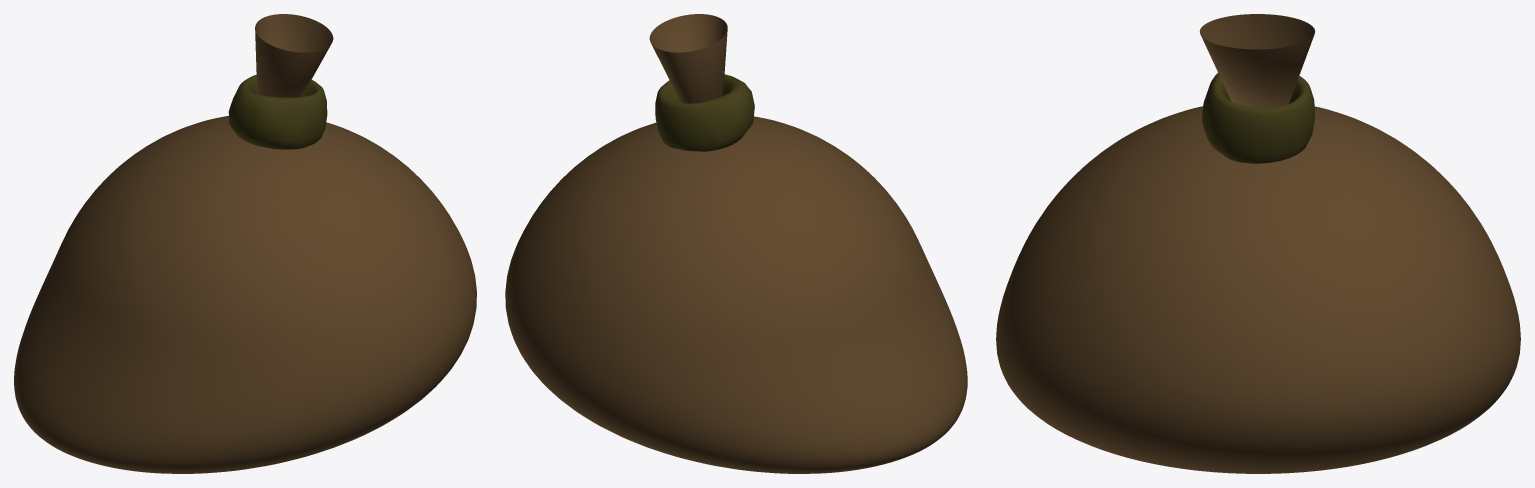
File: source bag.fbx
The picture shows the model from 3 angles, left to right: view 1: azimuth 30°, elevation 25°; view 2: azimuth 150°, elevation 25°; view 3: azimuth 270°, elevation 25°; orthographic projection. The views are drawn at different scales.
Parts seen in each view (by area): view 1: Sphere, Torus, Cone; view 2: Sphere, Cone, Torus; view 3: Sphere, Cone, Torus.
Boxes of the visible parts, x1,y1,x2,y2 form: Sphere: [14, 115, 476, 473]; Torus: [228, 74, 327, 149]; Cone: [255, 14, 333, 97]; Sphere: [505, 116, 967, 473]; Cone: [649, 14, 727, 103]; Torus: [655, 74, 754, 151]; Sphere: [996, 106, 1520, 473]; Cone: [1199, 14, 1315, 107]; Torus: [1202, 73, 1314, 163].
Size of the model in its own units: 213 by 178 by 200.
Materials: 2 (1 with a texture image).
